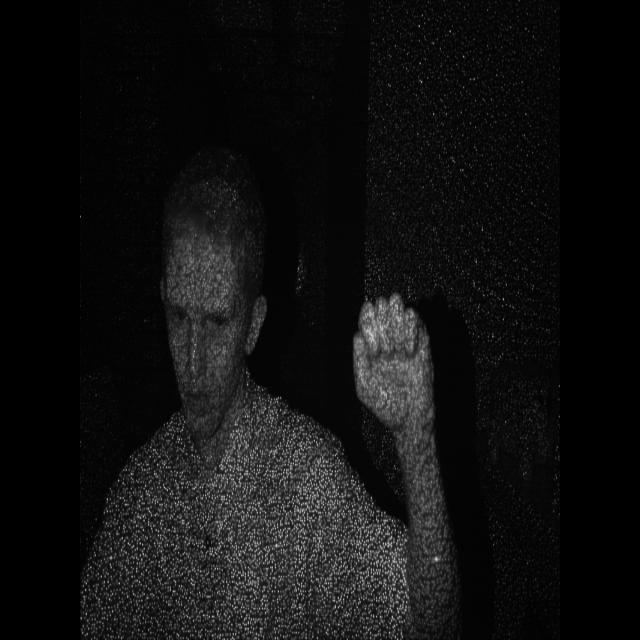M: (344, 278, 454, 442)
